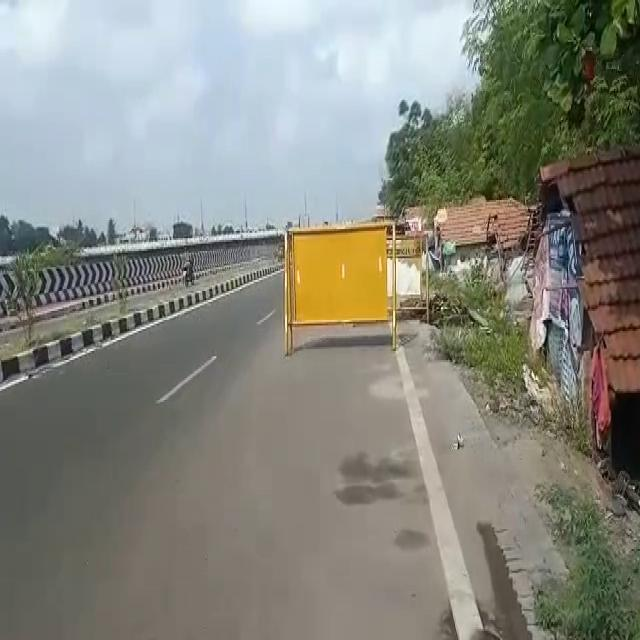fallen_object: (245, 185, 451, 378)
